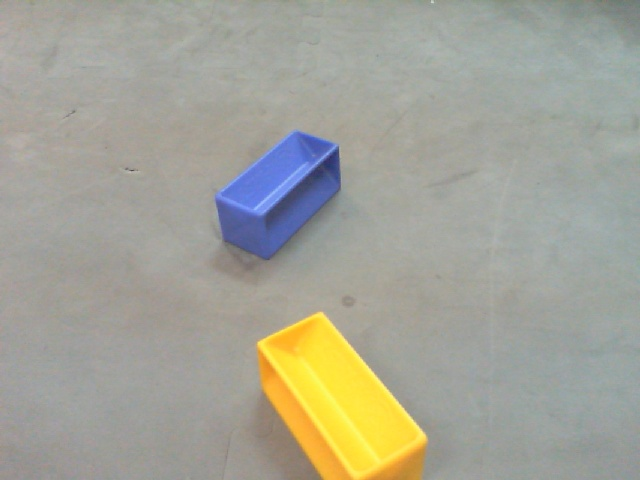BlueSample: (212, 128, 344, 262)
YellowSample: (255, 308, 428, 480)
